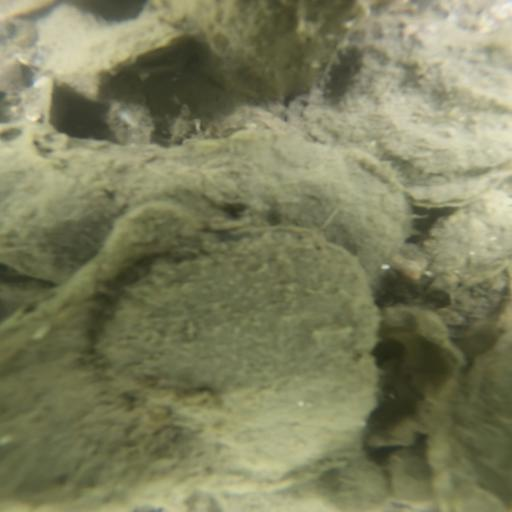Oyster-Closed: (102, 233, 376, 474), (1, 123, 405, 278), (311, 2, 512, 212), (138, 1, 377, 105), (424, 327, 512, 512), (35, 15, 191, 106), (421, 191, 512, 340)
